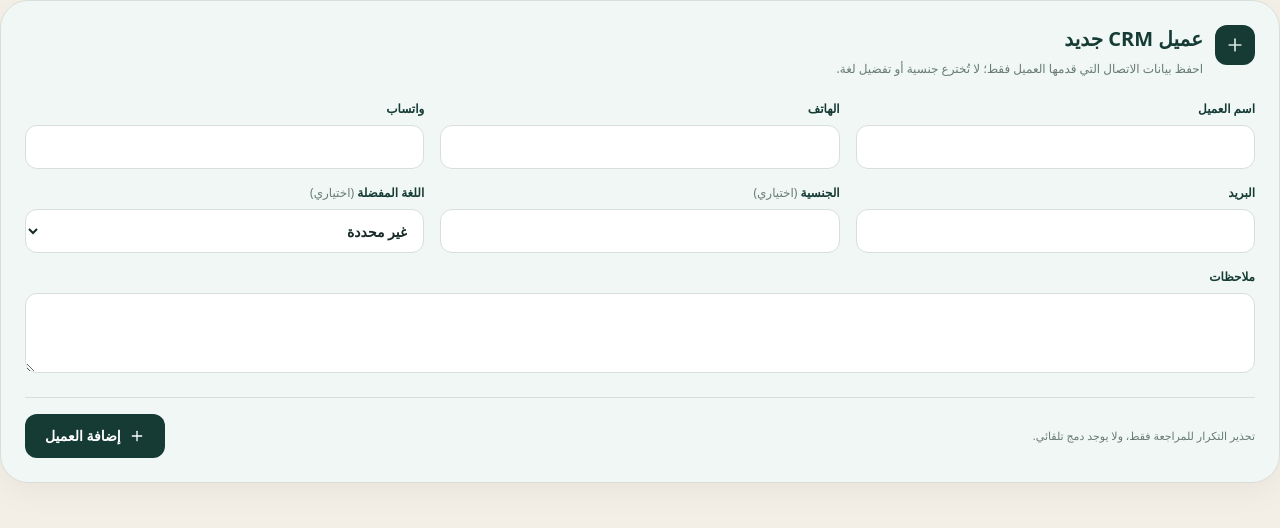
Test case: ClientCreateForm › submits the client display name to the supplied server action
Type "عميل النيل" into the field labelled "اسم العميل".
click(1055, 147); type("عميل النيل")  # box [856,125,1255,169]
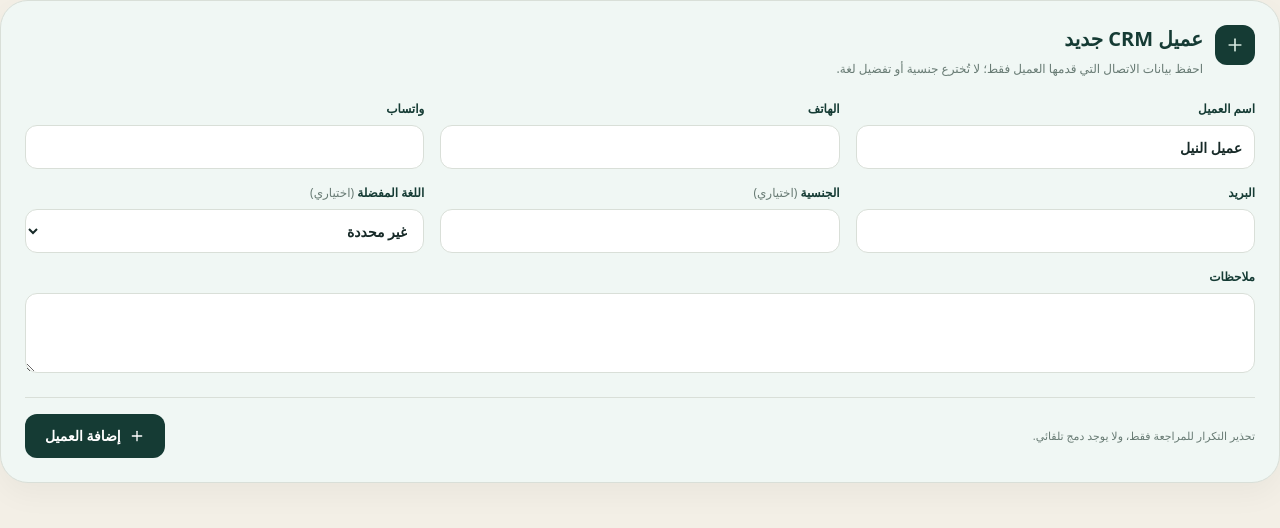
Click the button "إضافة العميل".
click(95, 436)  # box [25,414,165,458]
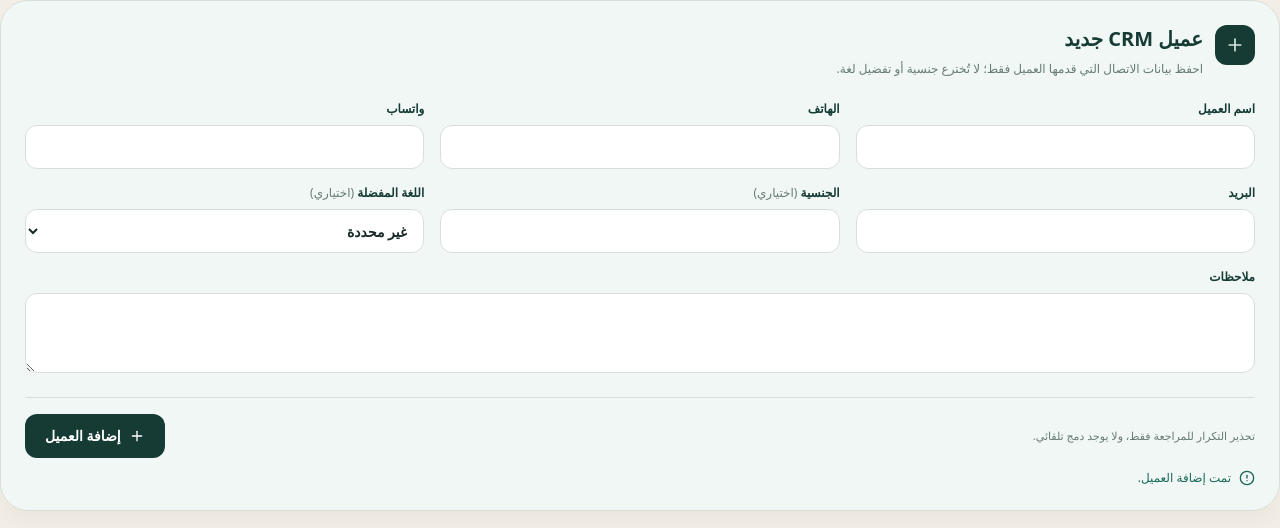
Expected: the text "تمت إضافة العميل." is shown, [1138,469,1255,486]
